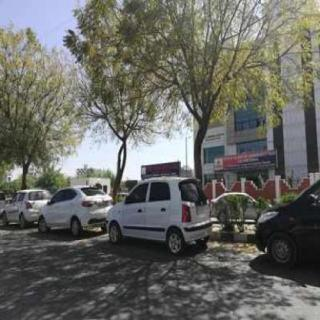Normal_vehicle: (107, 176, 212, 255)
